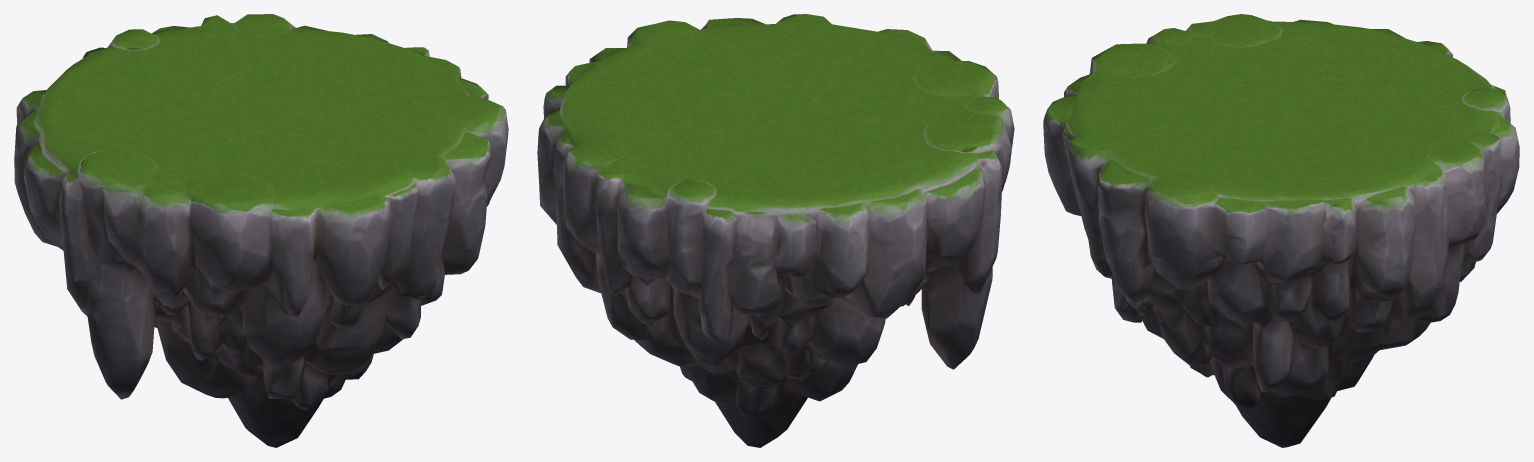
Rendered from island.fbx.
3 renders of one model, left to right at view 1: azimuth 30°, elevation 25°; view 2: azimuth 150°, elevation 25°; view 3: azimuth 270°, elevation 25°, orthographic. The views are drawn at different scales.
Parts seen in each view (by area): view 1: newisland_low; view 2: newisland_low; view 3: newisland_low.
Part boxes in pixels (x1,y1,x2,y2): newisland_low: (14,14,508,447); newisland_low: (537,14,1014,447); newisland_low: (1043,14,1519,447).
Size of the model in its own units: 196 by 154 by 198.
1 material, 1 textured.
